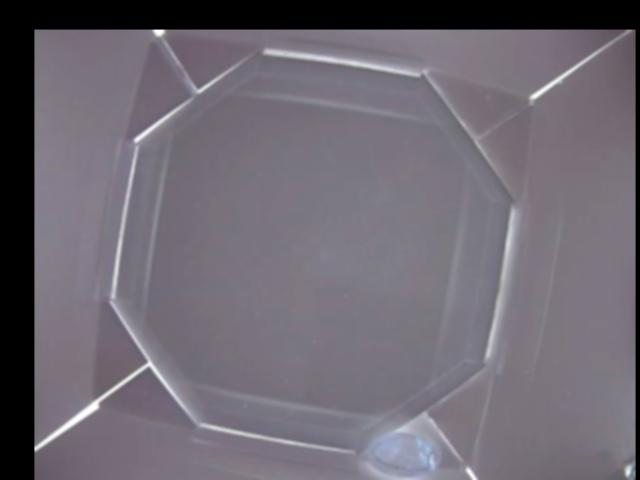Pebble: (361, 430, 441, 480)
